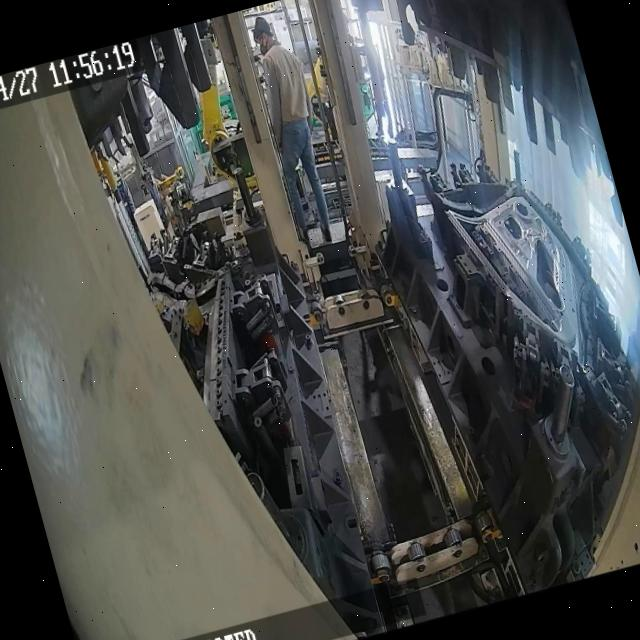Person: (241, 8, 348, 250), (343, 7, 401, 142)
